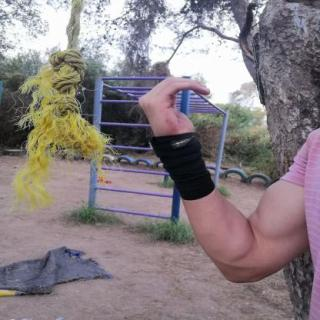HAA: (124, 69, 220, 153)
